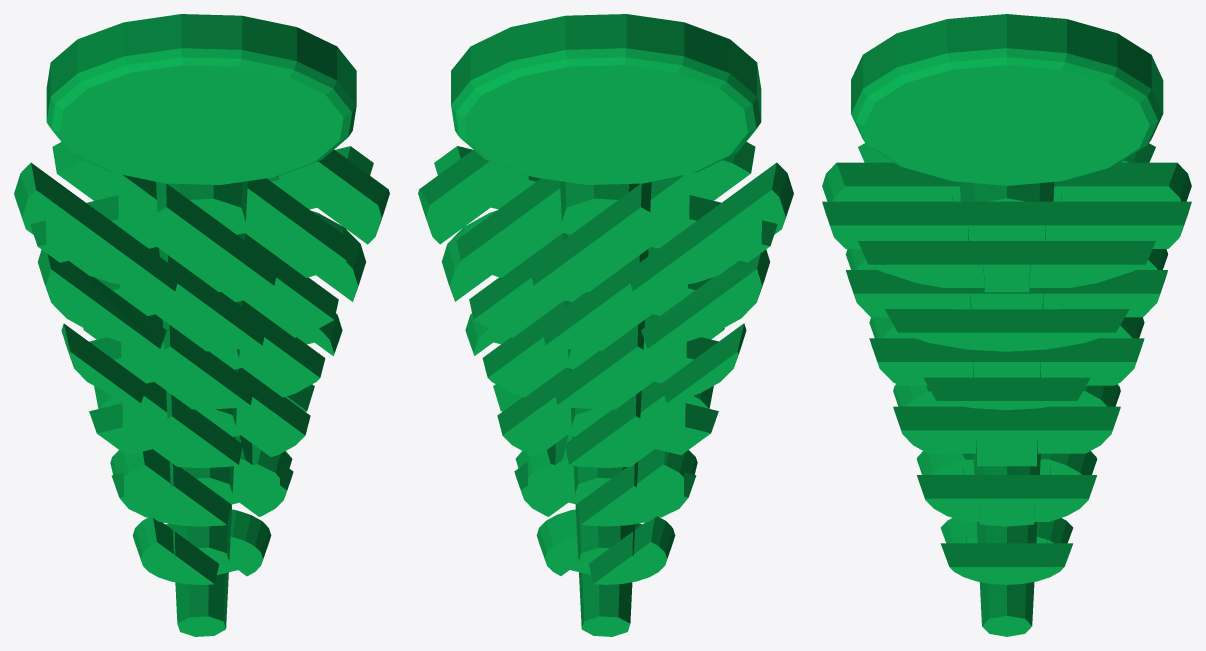
3 views of the same model, side by side, from view 1: azimuth 30°, elevation 25°; view 2: azimuth 150°, elevation 25°; view 3: azimuth 270°, elevation 25° (orthographic).
Visible parts, largest first — view 1: 007_L_243500_PART_1, 004_L_243500_PART_2, 011_L_243500_PART_3; view 2: 007_L_243500_PART_1, 004_L_243500_PART_2, 011_L_243500_PART_3; view 3: 007_L_243500_PART_1, 004_L_243500_PART_2, 011_L_243500_PART_3.
Boxes of the visible parts, left/top/right/bottom form: 007_L_243500_PART_1: left=14, top=142, right=389, bottom=584; 004_L_243500_PART_2: left=46, top=14, right=356, bottom=184; 011_L_243500_PART_3: left=156, top=181, right=247, bottom=636; 007_L_243500_PART_1: left=418, top=142, right=793, bottom=584; 004_L_243500_PART_2: left=451, top=14, right=761, bottom=184; 011_L_243500_PART_3: left=560, top=181, right=651, bottom=636; 007_L_243500_PART_1: left=822, top=143, right=1191, bottom=584; 004_L_243500_PART_2: left=851, top=14, right=1163, bottom=185; 011_L_243500_PART_3: left=959, top=182, right=1054, bottom=636.
Bounding box in the file's own units: 2.35 × 3.84 × 2.36.
